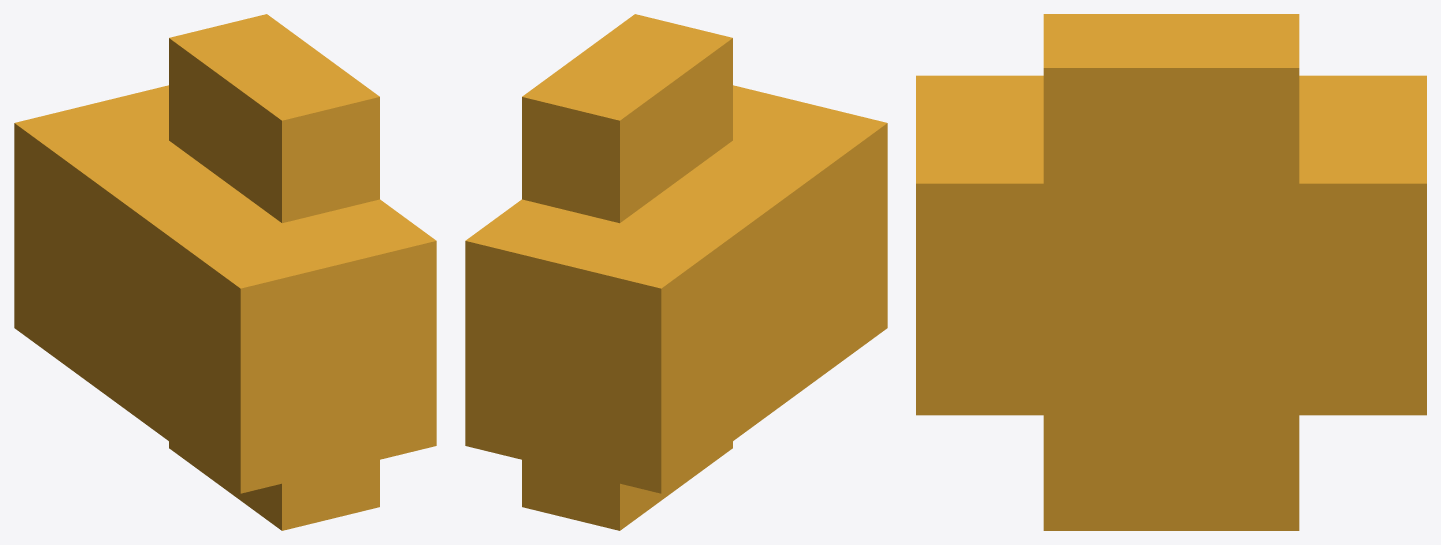
Rendered from duckling__wing_l.glb.
3 renders of one model, left to right at view 1: azimuth 30°, elevation 25°; view 2: azimuth 150°, elevation 25°; view 3: azimuth 270°, elevation 25°, orthographic. The views are drawn at different scales.
Visible parts, largest first — view 1: duckling__wing_l; view 2: duckling__wing_l; view 3: duckling__wing_l.
Boxes of the visible parts, x1=… form: duckling__wing_l: x1=14, y1=14, x2=436, y2=530; duckling__wing_l: x1=465, y1=14, x2=887, y2=530; duckling__wing_l: x1=916, y1=14, x2=1426, y2=530.
Size of the model in its own units: 0.2 by 0.4 by 0.4.
1 material, 1 textured.
